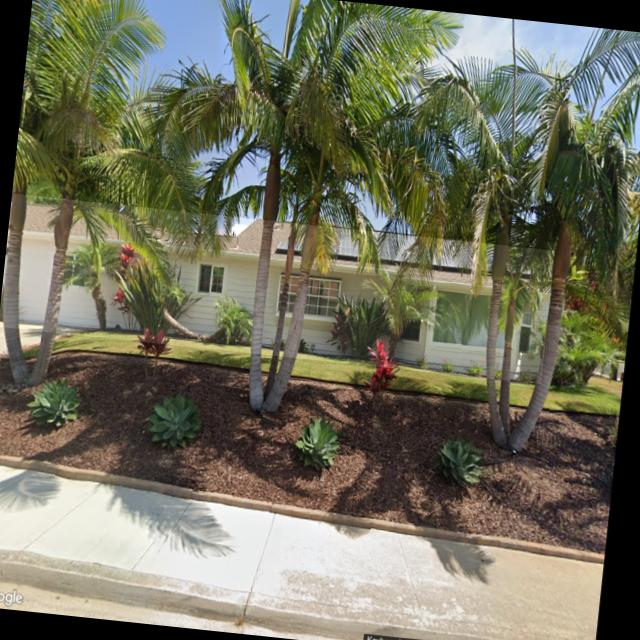House: (0, 192, 554, 383)
